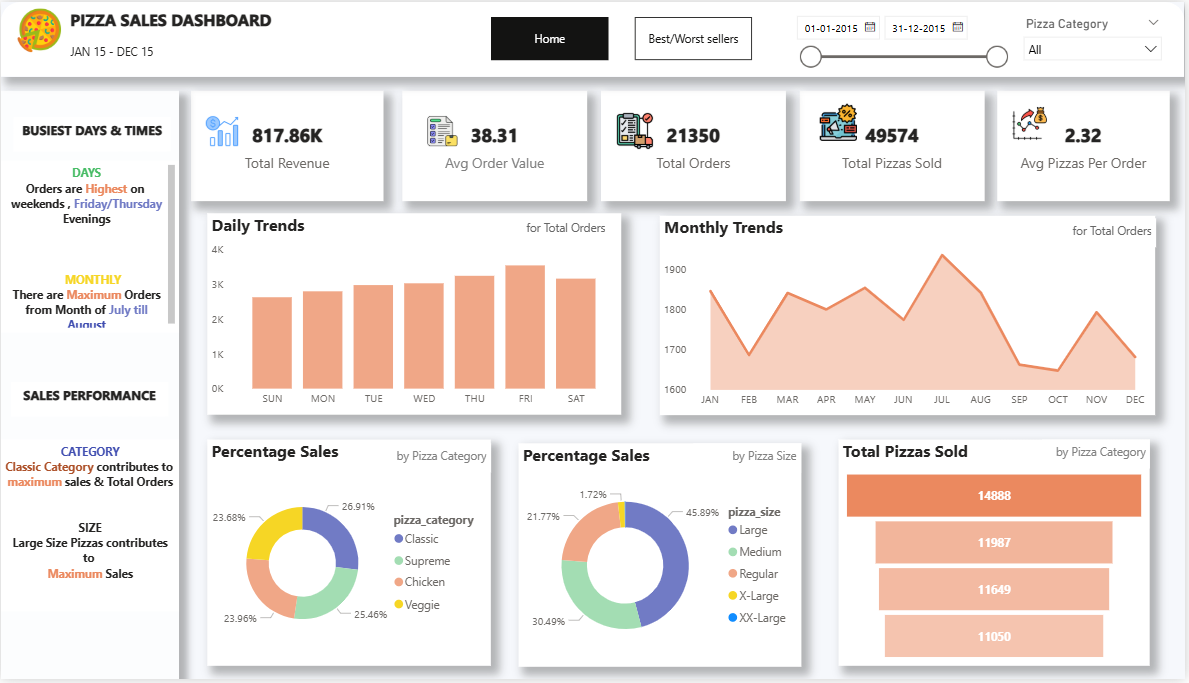

This screenshot's page, from the dashboard's own definition file:
{"tool":"powerbi","page":{"name":"Home","canvas":[1372,785],"ordinal":0},"visuals":[{"type":"card","fields":{"Values":["pizza_sales.Avg Order Value"]},"box":[465.6,102.2,214.4,127.8],"z":0},{"type":"card","fields":{"Values":["pizza_sales.Total Revenue"]},"box":[220,102.2,223.3,127.8],"z":1000},{"type":"card","fields":{"Values":["pizza_sales.Total Pizzas Sold"]},"box":[926.7,102.2,214.4,127.8],"z":2000},{"type":"card","fields":{"Values":["pizza_sales.Total Orders"]},"box":[695.6,102.2,214.4,127.8],"z":3000},{"type":"card","fields":{"Values":["pizza_sales.Average Pizzas Per Order"]},"box":[1155.6,102.2,200,127.8],"z":4000},{"type":"image","box":[217.8,125.6,77.8,47.8],"z":5000},{"type":"image","box":[475.6,125.6,73.3,47.8],"z":6000},{"type":"image","box":[695.6,123.3,77.8,53.3],"z":7000},{"type":"image","box":[942.2,113.3,57.8,53.3],"z":8000},{"type":"image","box":[1155.6,116.7,74.4,50],"z":9000},{"type":"shape","box":[0,0,1372.2,86.7],"z":10000},{"type":"textbox","box":[75.6,3.3,261.1,40],"z":11000},{"type":"textbox","box":[75.6,43.3,121.1,28.9],"z":12000},{"type":"image","box":[0,3.3,88.9,60],"z":13000},{"type":"columnChart","title":"Daily Trends","fields":{"Category":["pizza_sales.Order Day"],"Y":["pizza_sales.Total Orders"]},"box":[238.9,245.6,480,233.3],"z":14000},{"type":"textbox","box":[581.1,247.8,124.4,33.3],"z":15000},{"type":"areaChart","title":"Monthly Trends","fields":{"Y":["pizza_sales.Total Orders"],"Category":["pizza_sales.Order Month"]},"box":[764.4,247.8,574.4,231.1],"z":15001},{"type":"textbox","box":[1214.4,251.1,124.4,33.3],"z":15002},{"type":"donutChart","title":"Percentage Sales","fields":{"Category":["pizza_sales.pizza_category"],"Y":["pizza_sales.Total Revenue"]},"box":[238.9,507.8,328.9,262.2],"z":15003},{"type":"textbox","box":[443.3,511.1,124.4,33.3],"z":15004},{"type":"donutChart","title":"Percentage Sales","fields":{"Y":["pizza_sales.Total Revenue"],"Category":["pizza_sales.pizza_size"]},"box":[600,511.1,327.8,258.9],"z":15007},{"type":"textbox","box":[802.2,511.1,124.4,33.3],"z":15008},{"type":"funnel","title":"Total Pizzas Sold","fields":{"Category":["pizza_sales.pizza_category"],"Y":["pizza_sales.Total Pizzas Sold"]},"box":[971.1,507.8,361.1,262.2],"z":15009},{"type":"textbox","box":[1207.5,507.5,125,33.8],"z":15010},{"type":"shape","box":[0,102.2,206.7,683.3],"z":15011},{"type":"textbox","box":[14.4,133.3,182.2,40],"z":15012},{"type":"textbox","box":[0,184.4,206.7,198.9],"z":15013},{"type":"textbox","box":[12.2,441.1,182.2,40],"z":15014},{"type":"textbox","box":[0,507.8,206.7,198.9],"z":15015},{"type":"slicer","fields":{"Values":["pizza_sales.pizza_category"]},"box":[1175.6,11.1,180,61.1],"z":15016},{"type":"slicer","fields":{"Values":["pizza_sales.order_date"]},"box":[910,5.6,265.6,74.4],"z":15017},{"type":"pageNavigator","box":[567.8,16.7,136.7,50],"z":15018},{"type":"pageNavigator","box":[734.4,16.7,136.7,50],"z":15019}]}

Visuals, with their boxes in screenshot pixels (x1, y1, x2, y2), scaled from the page's 1372x785 canvas onto the 1189x683 screenshot:
card - pizza_sales.Avg Order Value: box=[403, 89, 589, 200]
card - pizza_sales.Total Revenue: box=[191, 89, 384, 200]
card - pizza_sales.Total Pizzas Sold: box=[803, 89, 989, 200]
card - pizza_sales.Total Orders: box=[603, 89, 789, 200]
card - pizza_sales.Average Pizzas Per Order: box=[1001, 89, 1175, 200]
image: box=[189, 109, 256, 151]
image: box=[412, 109, 476, 151]
image: box=[603, 107, 670, 154]
image: box=[817, 99, 867, 145]
image: box=[1001, 102, 1066, 145]
shape: box=[0, 0, 1188, 75]
textbox: box=[66, 3, 292, 38]
textbox: box=[66, 38, 170, 63]
image: box=[0, 3, 77, 55]
"Daily Trends" columnChart: box=[207, 214, 623, 417]
textbox: box=[504, 216, 611, 245]
"Monthly Trends" areaChart: box=[662, 216, 1160, 417]
textbox: box=[1052, 218, 1160, 247]
"Percentage Sales" donutChart: box=[207, 442, 492, 670]
textbox: box=[384, 445, 492, 474]
"Percentage Sales" donutChart: box=[520, 445, 804, 670]
textbox: box=[695, 445, 803, 474]
"Total Pizzas Sold" funnel: box=[842, 442, 1155, 670]
textbox: box=[1046, 442, 1155, 471]
shape: box=[0, 89, 179, 682]
textbox: box=[12, 116, 170, 151]
textbox: box=[0, 160, 179, 333]
textbox: box=[11, 384, 168, 419]
textbox: box=[0, 442, 179, 615]
slicer - pizza_sales.pizza_category: box=[1019, 10, 1175, 63]
slicer - pizza_sales.order_date: box=[789, 5, 1019, 70]
pageNavigator: box=[492, 15, 611, 58]
pageNavigator: box=[636, 15, 755, 58]
